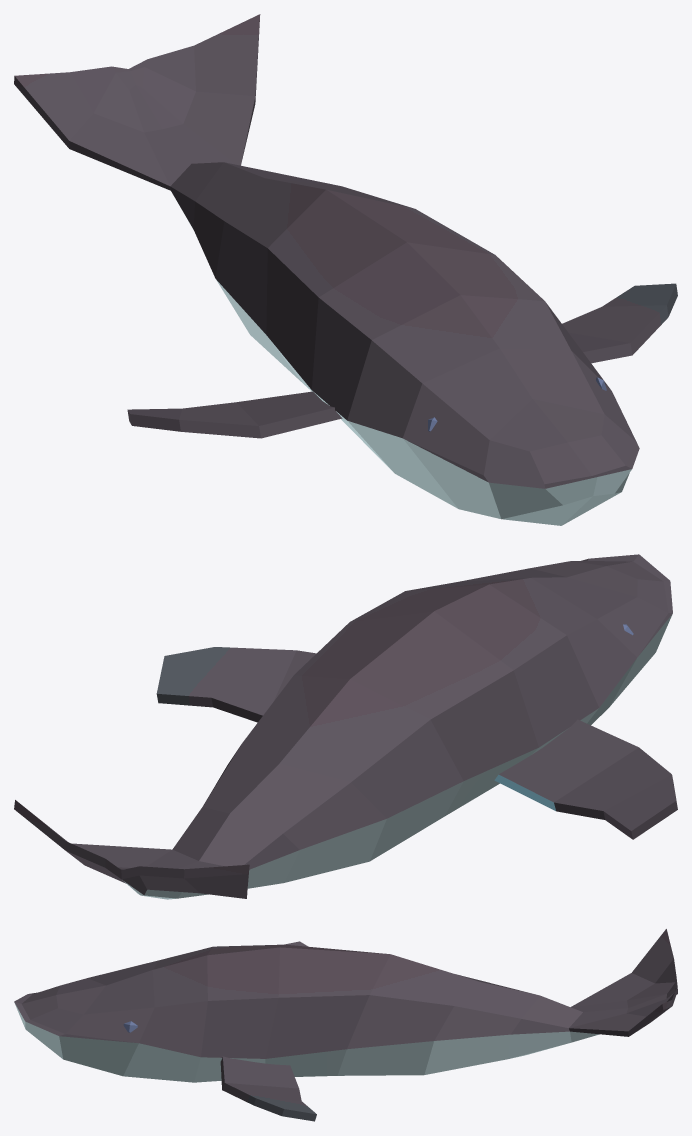
The model's file is SS_Whale.fbx.
The picture shows the model from 3 angles, top to bottom: view 1: azimuth 30°, elevation 25°; view 2: azimuth 150°, elevation 25°; view 3: azimuth 270°, elevation 25°; orthographic projection. The views are drawn at different scales.
Visible parts, largest first — view 1: Whale; view 2: Whale; view 3: Whale.
Part boxes in pixels (box(x1,y1,x2,y2)): Whale: box(14, 14, 677, 525); Whale: box(14, 554, 677, 899); Whale: box(14, 929, 677, 1121).
Bounding box in the file's own units: 19.15 × 6.44 × 30.98.
1 material, 1 textured.
